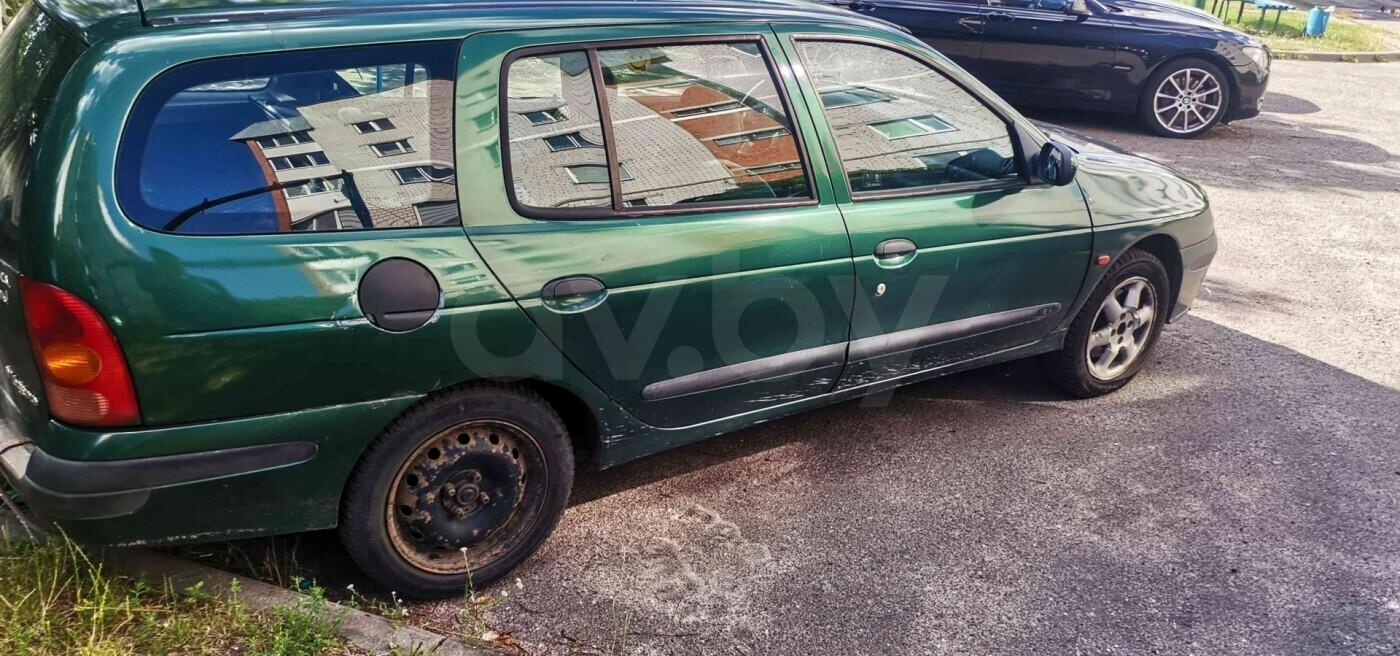Megane_1999-2003: (0, 0, 1227, 608)
